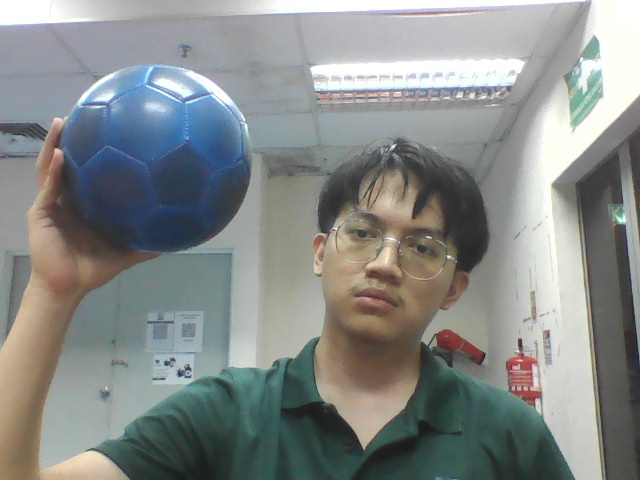Blue: (60, 65, 251, 252)
